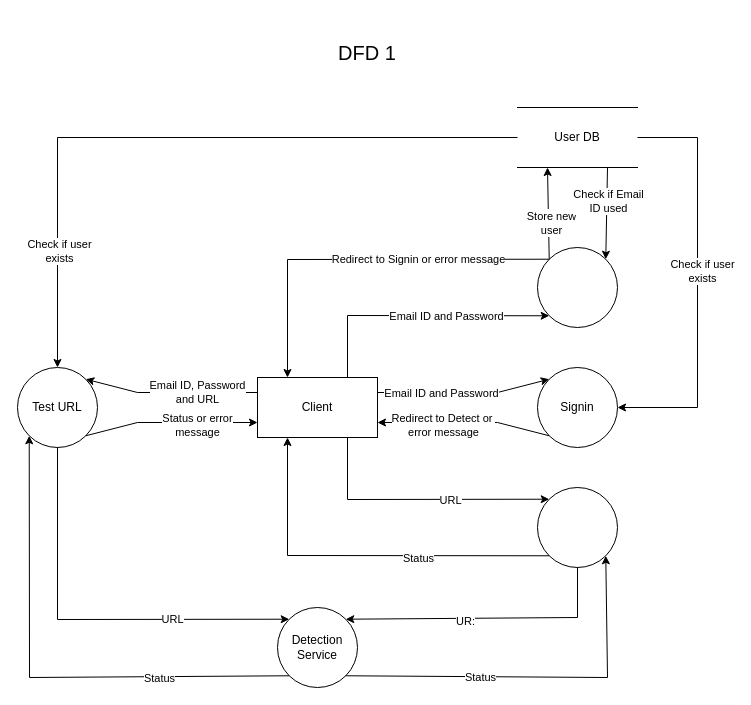
The diagram is 751 pixels wide and 705 high, and some of its shapes have lost their labels. Here are the shapes that lost their labels. From the top down, the centre of each, then its label:
At point (577, 287): "Signup".
At point (577, 527): "Detect".
